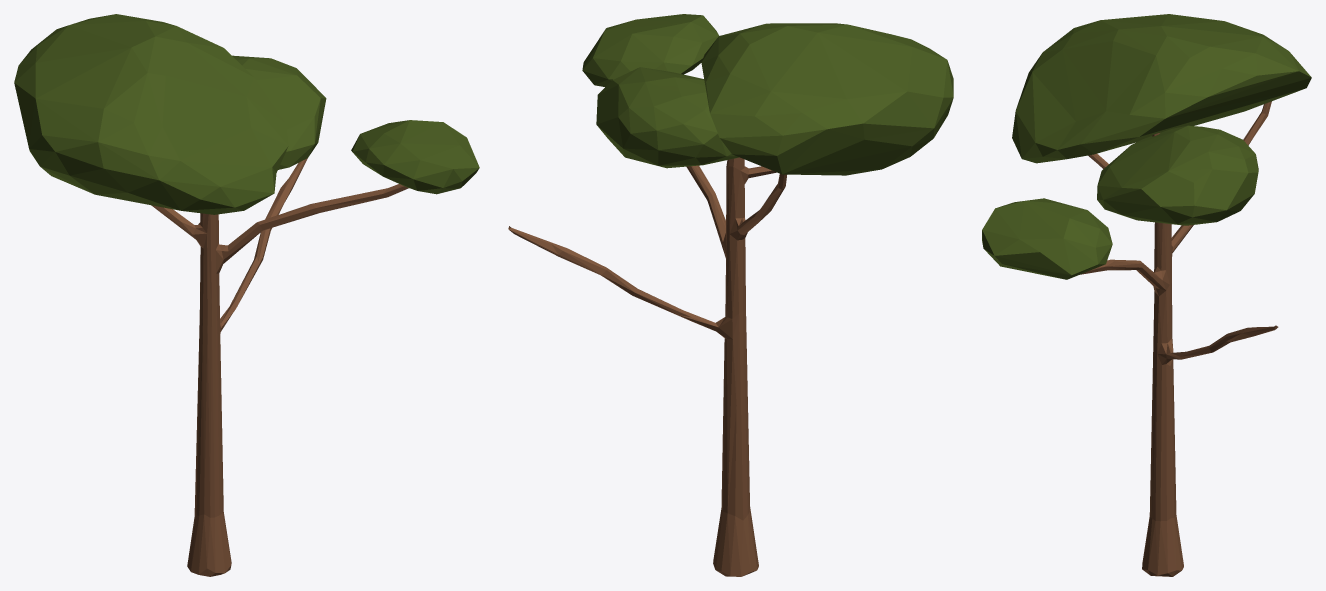
Rendered from SM_tree_greek_01.fbx.
The picture shows the model from 3 angles, left to right: view 1: azimuth 30°, elevation 25°; view 2: azimuth 150°, elevation 25°; view 3: azimuth 270°, elevation 25°; orthographic projection. The views are drawn at different scales.
Visible parts, largest first — view 1: Object011; view 2: Object011; view 3: Object011.
Boxes of the visible parts, box(x1,y1,x2,y2) form: Object011: box(14, 14, 479, 576); Object011: box(508, 14, 953, 576); Object011: box(982, 14, 1311, 576).
Bounding box in the file's own units: 141 × 191 × 112.
